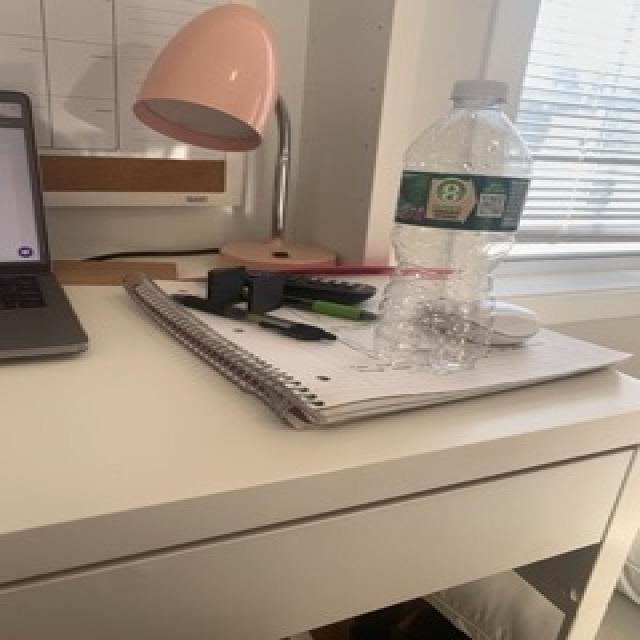water_bottle: (364, 76, 538, 377)
